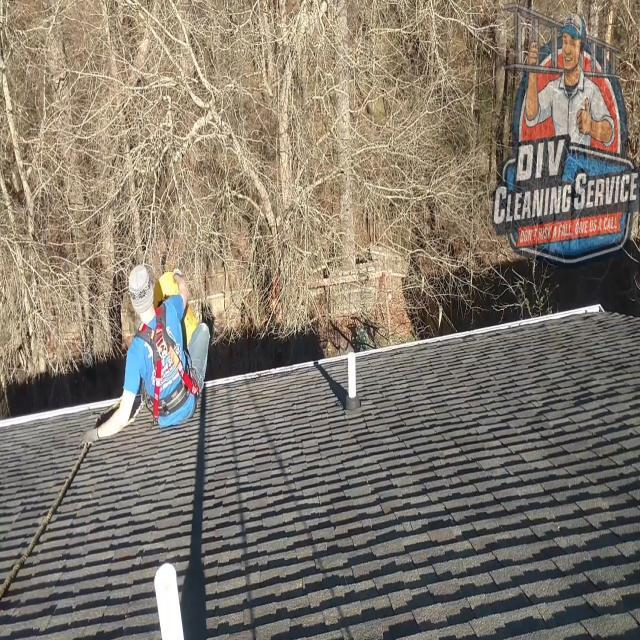belt: (134, 298, 202, 429)
